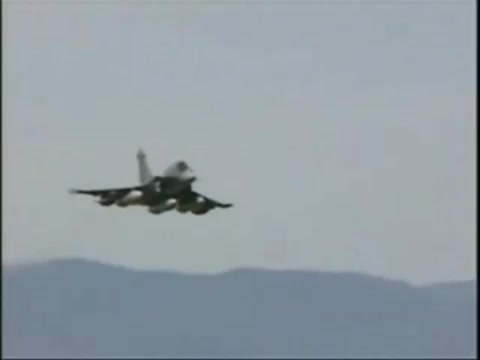aeroplane: (71, 149, 235, 219)
